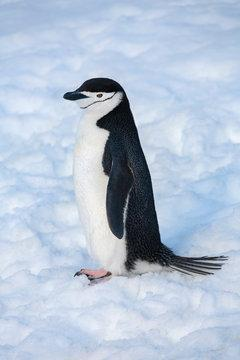chinstrap: (35, 65, 233, 290)
